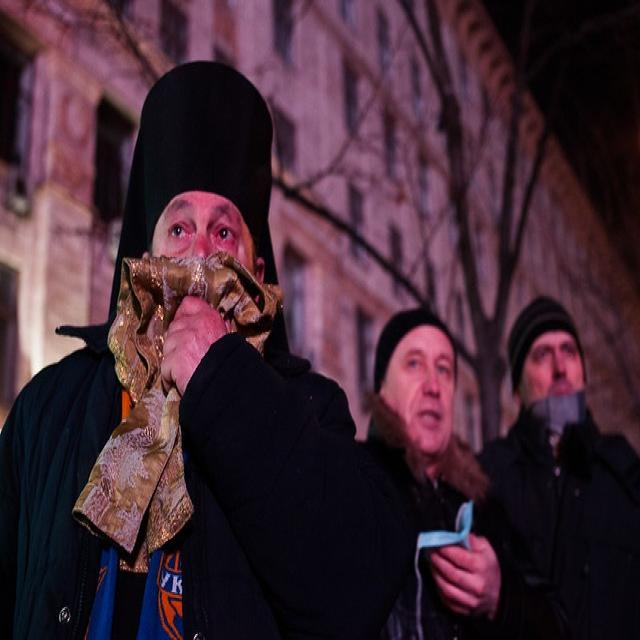hat: (128, 63, 270, 254), (506, 296, 585, 380), (376, 310, 458, 388)
